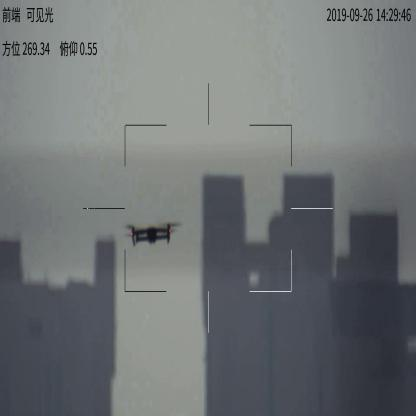uav: (123, 220, 182, 247)
